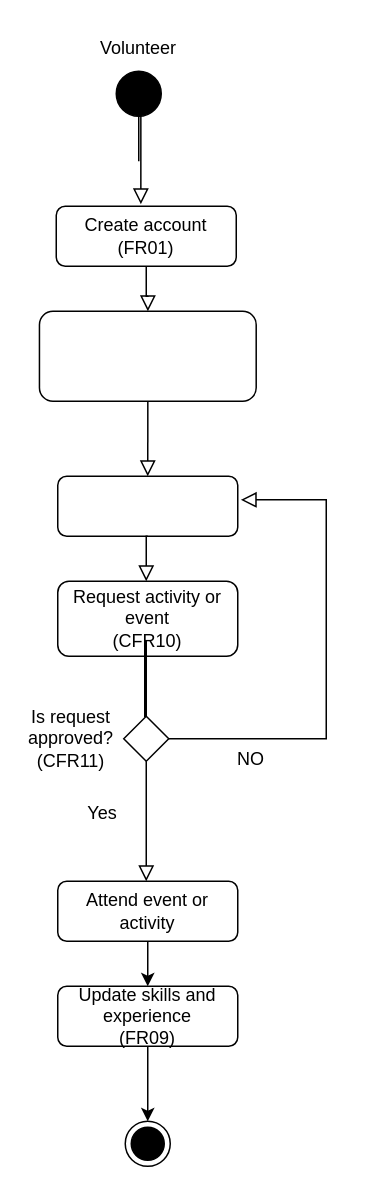
Image size: 368x1193. Some labels were removed from this diagram. The shapes that lost their labels are listed below. From the top down, each one's box as (x1, y1, x2, y2) in pixels, then its label:
(38, 310, 256, 401): manage profile, skills and availability (FR02, FR03, FR04
(56, 475, 238, 536): View Events and activites
